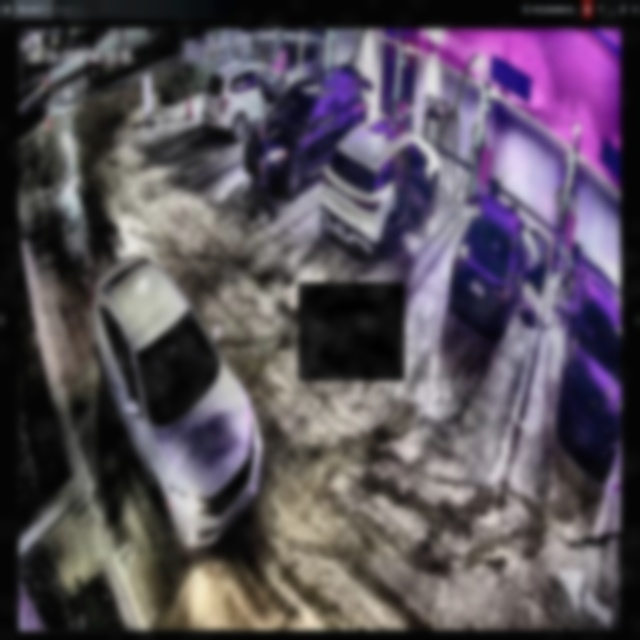Car: (89, 253, 261, 550), (244, 64, 368, 202), (323, 112, 437, 260), (450, 195, 549, 336), (202, 64, 295, 144)
